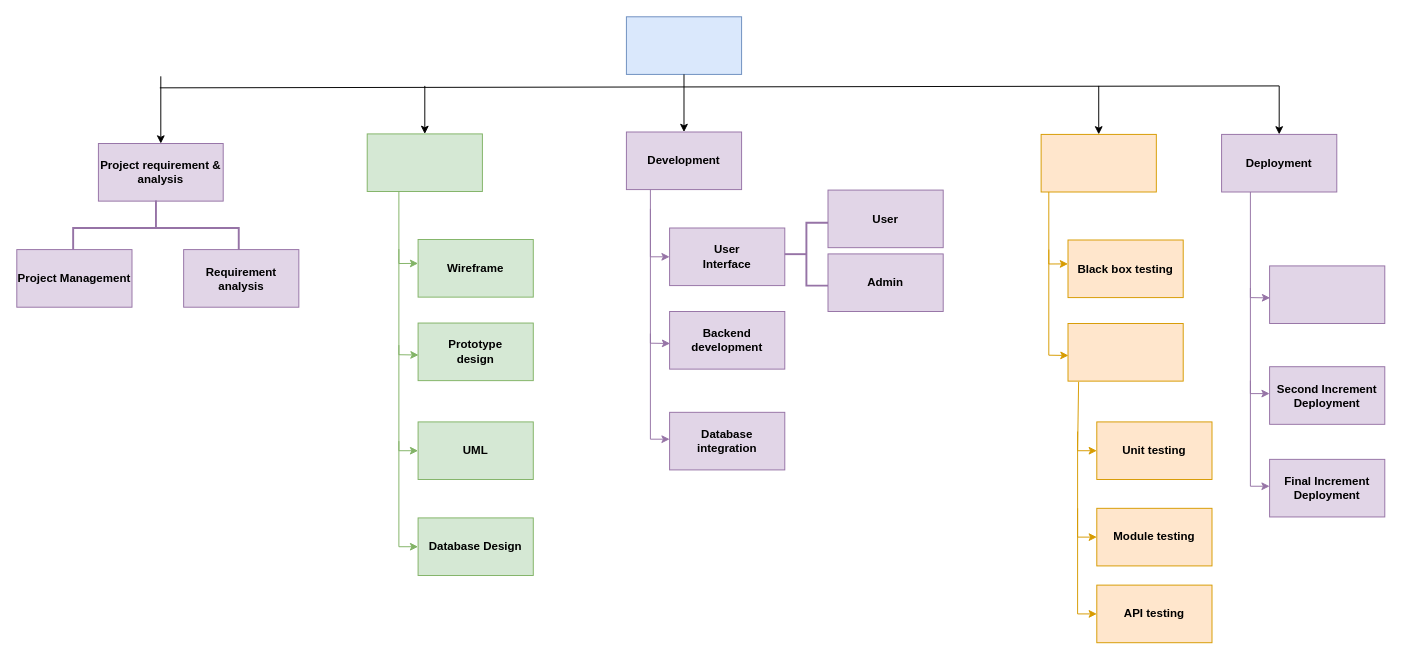
Image size: 1402x660. Some labels were removed from this diagram. Each missing label, with the box of its shape:
Design: (366, 133, 482, 192)
First Increment Deployment: (1269, 265, 1385, 324)
Rental Infrastructure: (625, 16, 742, 74)
Testing: (1040, 133, 1156, 192)
White box testing: (1067, 323, 1183, 381)
